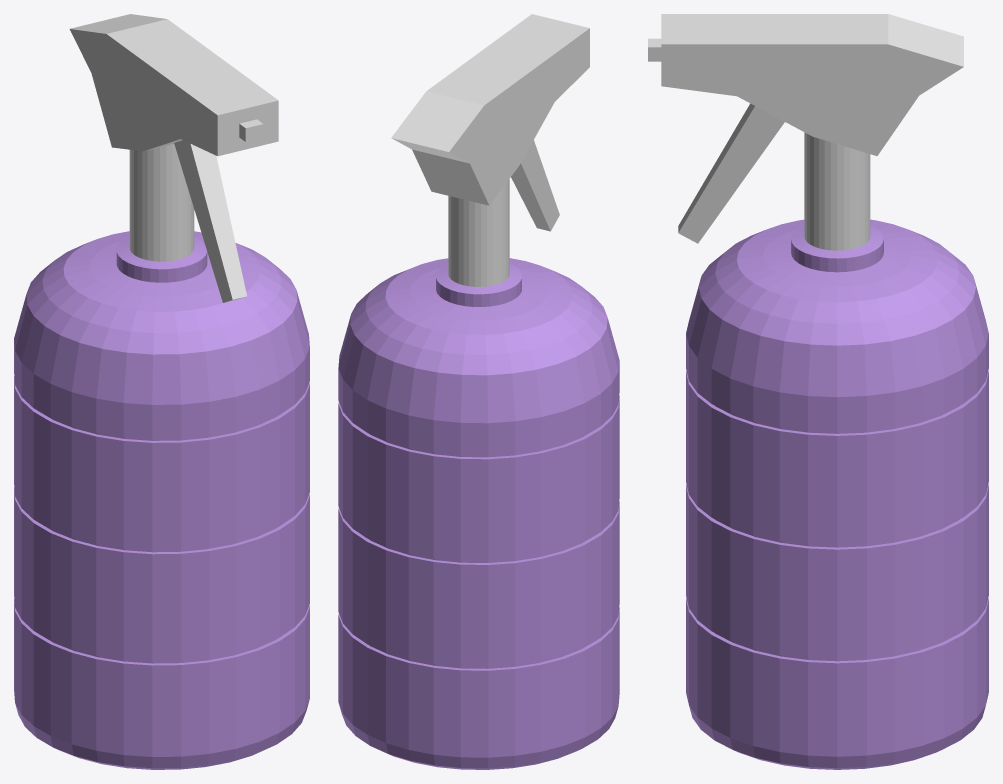
Rendered from Sprayer.fbx.
3 renders of one model, left to right at view 1: azimuth 30°, elevation 25°; view 2: azimuth 150°, elevation 25°; view 3: azimuth 270°, elevation 25°, orthographic. The views are drawn at different scales.
Parts seen in each view (by area): view 1: Cylinder, Cylinder.001; view 2: Cylinder, Cylinder.001; view 3: Cylinder, Cylinder.001.
Boxes of the visible parts, box(x1,y1,x2,y2) form: Cylinder: box(14, 143, 309, 769); Cylinder.001: box(69, 14, 278, 302); Cylinder: box(338, 179, 619, 769); Cylinder.001: box(391, 14, 589, 231); Cylinder: box(686, 132, 988, 769); Cylinder.001: box(648, 14, 963, 243).
Size of the model in its own units: 200 by 497 by 225.
